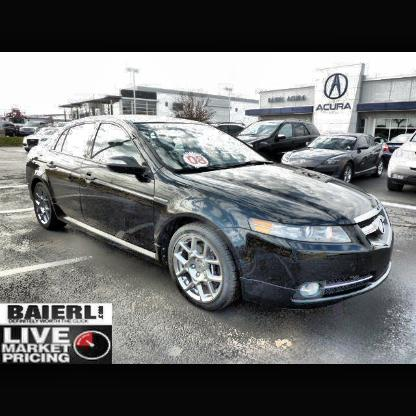Acura TL Type-S 2008: (25, 113, 396, 315)
